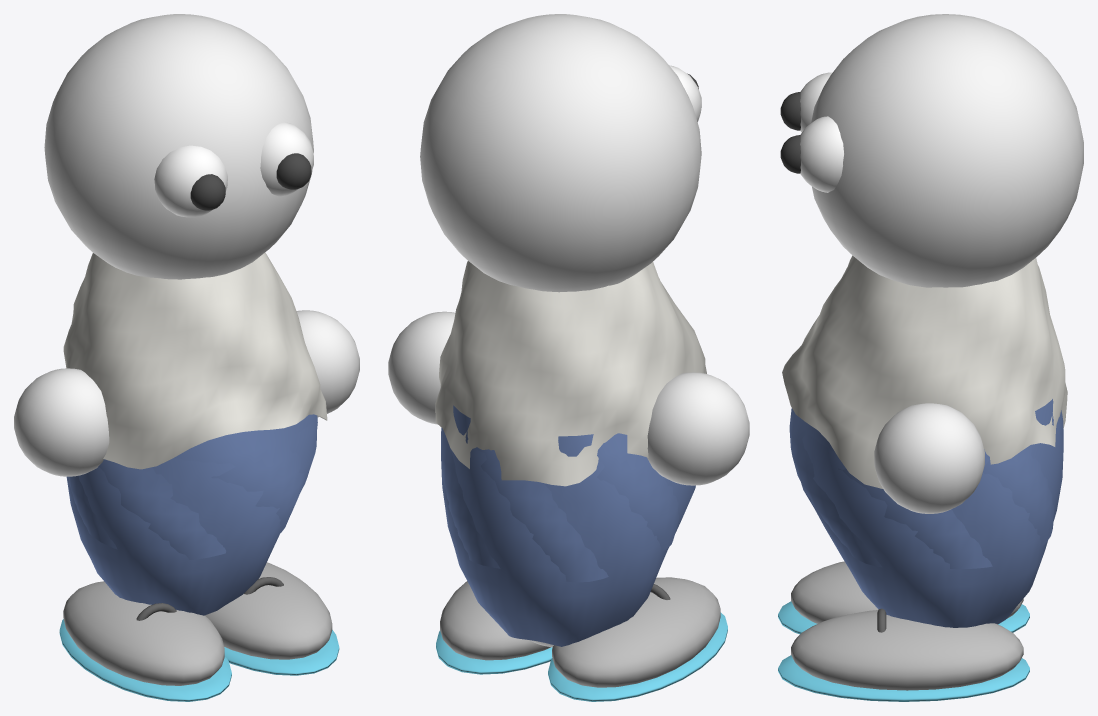
File: blob_egg_pop.glb
3 renders of one model, left to right at view 1: azimuth 30°, elevation 25°; view 2: azimuth 150°, elevation 25°; view 3: azimuth 270°, elevation 25°, orthographic. The views are drawn at different scales.
Parts seen in each view (by area): view 1: Head, Singlet, Shorts_boardies, Shorts_stubbies, FootL, HandR, FootR, HandL, EyeL, ThongL, EyeR, ThongR (+2 smaller); view 2: Head, Singlet, Shorts_boardies, Shorts_stubbies, FootL, HandR, HandL, FootR, ThongL, ThongR, EyeL; view 3: Head, Singlet, Shorts_boardies, FootR, Shorts_stubbies, HandL, ThongR, FootL, EyeR, ThongL, EyeL, PupilR (+1 smaller).
Part boxes in pixels (<box>): Head: <box>44,14,313,279</box>; Singlet: <box>63,252,327,469</box>; Shorts_boardies: <box>66,415,316,615</box>; Shorts_stubbies: <box>68,414,317,559</box>; FootL: <box>63,581,224,685</box>; HandR: <box>14,368,109,476</box>; FootR: <box>205,562,332,659</box>; HandL: <box>296,310,359,417</box>; EyeL: <box>154,145,227,217</box>; ThongL: <box>59,619,231,701</box>; EyeR: <box>260,122,313,196</box>; ThongR: <box>224,630,339,675</box>; Head: <box>420,14,701,292</box>; Singlet: <box>435,261,706,486</box>; Shorts_boardies: <box>441,405,695,646</box>; Shorts_stubbies: <box>441,417,679,582</box>; FootL: <box>552,577,720,687</box>; HandR: <box>647,372,749,485</box>; HandL: <box>388,311,455,424</box>; FootR: <box>440,581,550,660</box>; ThongL: <box>548,612,727,701</box>; ThongR: <box>436,630,552,674</box>; EyeL: <box>669,65,701,121</box>; Head: <box>811,14,1083,287</box>; Singlet: <box>782,255,1067,488</box>; Shorts_boardies: <box>801,400,1063,627</box>; FootR: <box>791,610,1023,690</box>; Shorts_stubbies: <box>789,399,1063,569</box>; HandL: <box>874,403,984,513</box>; ThongR: <box>778,655,1029,701</box>; FootL: <box>791,561,1023,623</box>; EyeR: <box>800,116,843,192</box>; ThongL: <box>778,601,1029,634</box>; EyeL: <box>800,72,832,132</box>; PupilR: <box>780,135,800,173</box>.
Bounding box in the file's own units: 1.23 × 2.17 × 0.9586.
